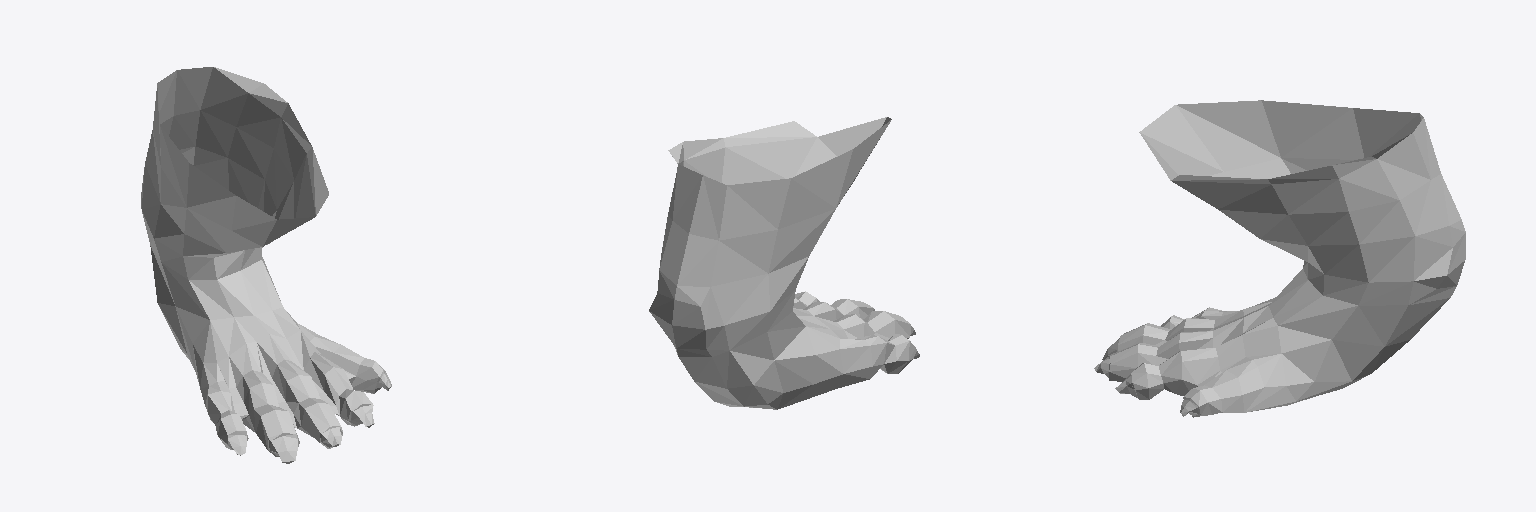
The model's file is nutriapatatraseraderecha.obj.
3 views of the same model, side by side, from view 1: azimuth 30°, elevation 25°; view 2: azimuth 150°, elevation 25°; view 3: azimuth 270°, elevation 25° (orthographic).
Visible parts, largest first — view 1: body_Mat.1_0.005_Mat.1; view 2: body_Mat.1_0.005_Mat.1; view 3: body_Mat.1_0.005_Mat.1.
Boxes of the visible parts, <box> form: body_Mat.1_0.005_Mat.1: <box>141,67,391,463</box>; body_Mat.1_0.005_Mat.1: <box>649,117,919,409</box>; body_Mat.1_0.005_Mat.1: <box>1094,100,1465,417</box>.
Bounding box in the file's own units: 12.2 × 17.64 × 21.97.